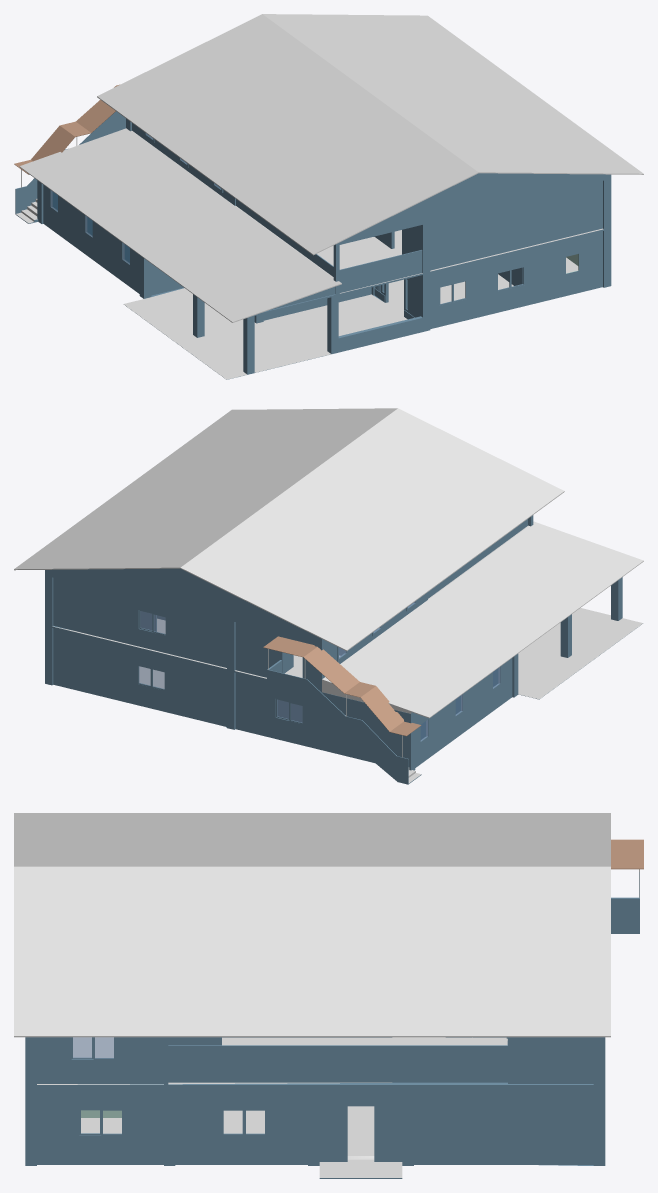
Rendered from Rumah.fbx.
3 renders of one model, top to bottom at view 1: azimuth 30°, elevation 25°; view 2: azimuth 150°, elevation 25°; view 3: azimuth 270°, elevation 25°, orthographic. The views are drawn at different scales.
Parts seen in each view (by area): view 1: Atap, Lantai 2, Lantai 1; view 2: Atap, Lantai 2, Lantai 1; view 3: Atap, Lantai 1, Lantai 2.
Part boxes in pixels (bbox=[...]): Atap: bbox=[97, 14, 643, 255]; Lantai 2: bbox=[14, 84, 611, 322]; Lantai 1: bbox=[37, 180, 611, 379]; Atap: bbox=[14, 408, 564, 651]; Lantai 2: bbox=[45, 515, 643, 784]; Lantai 1: bbox=[45, 577, 643, 770]; Atap: bbox=[14, 813, 610, 1037]; Lantai 1: bbox=[25, 1041, 605, 1178]; Lantai 2: bbox=[25, 839, 643, 1087].
Size of the model in its own units: 2271 by 789 by 2173.
